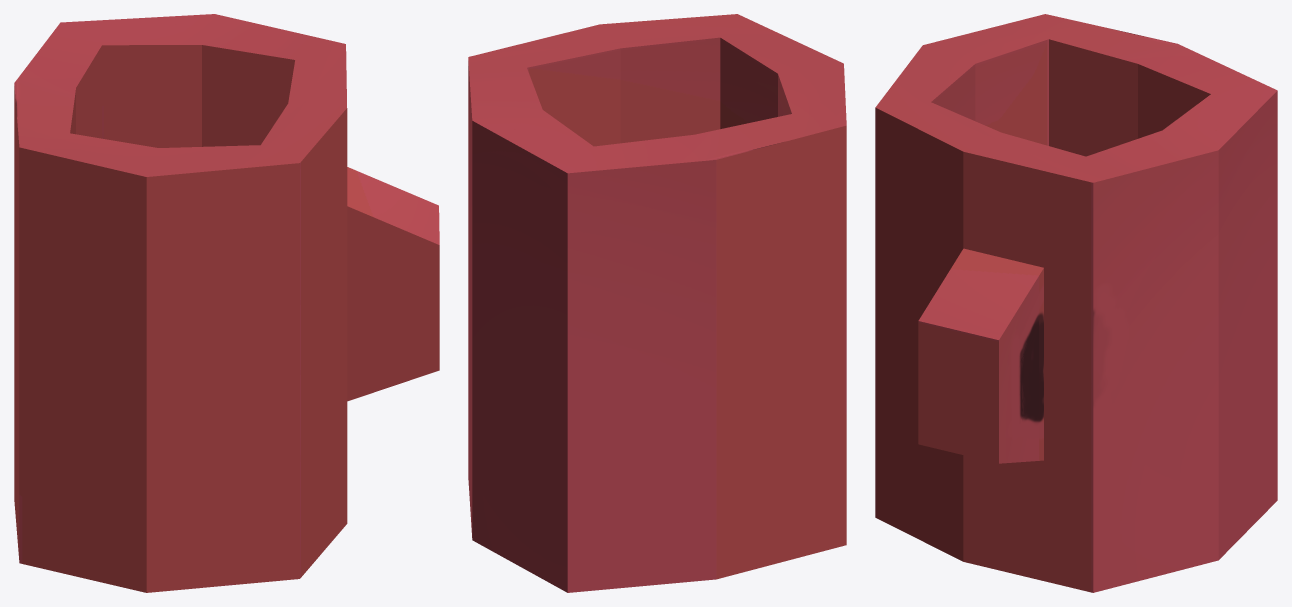
File: Mug.fbx
3 renders of one model, left to right at view 1: azimuth 30°, elevation 25°; view 2: azimuth 150°, elevation 25°; view 3: azimuth 270°, elevation 25°, orthographic. The views are drawn at different scales.
Visible parts, largest first — view 1: Mug; view 2: Mug; view 3: Mug.
Part boxes in pixels (x1=…): Mug: x1=14, y1=14, x2=439, y2=592; Mug: x1=468, y1=14, x2=846, y2=592; Mug: x1=875, y1=14, x2=1277, y2=592.
Bounding box in the file's own units: 19.57 × 19.64 × 17.46.
